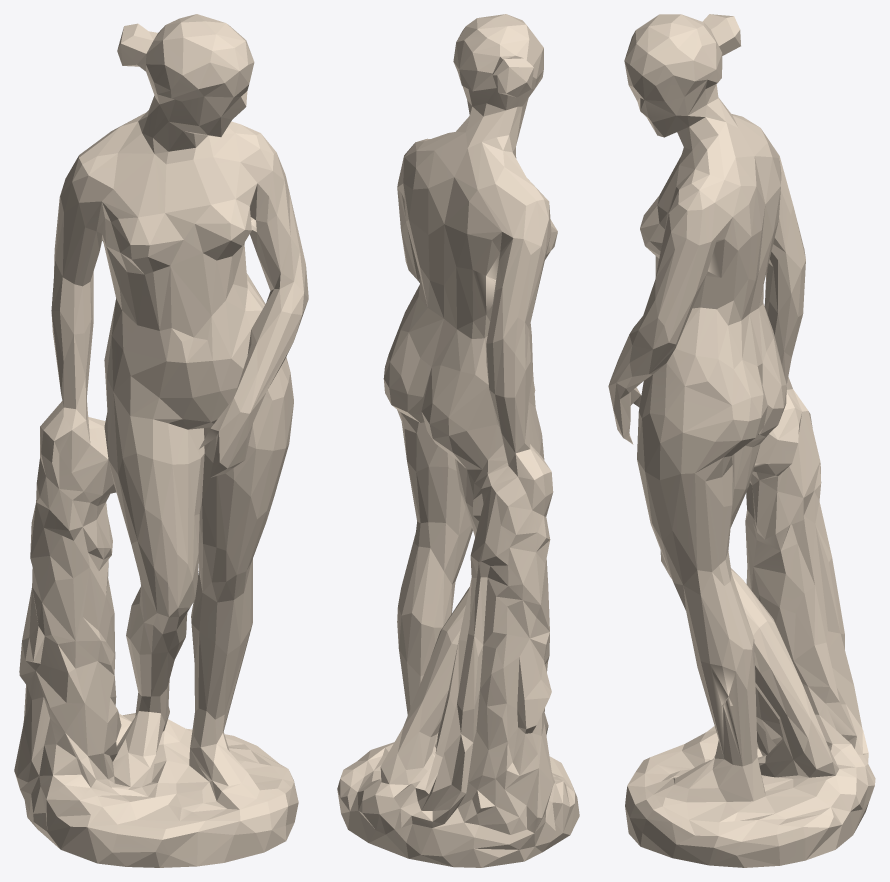
File: Statue.fbx
The picture shows the model from 3 angles, left to right: view 1: azimuth 30°, elevation 25°; view 2: azimuth 150°, elevation 25°; view 3: azimuth 270°, elevation 25°; orthographic projection. The views are drawn at different scales.
Visible parts, largest first — view 1: Statue; view 2: Statue; view 3: Statue.
Boxes of the visible parts, bbox=[...] form: Statue: bbox=[14, 14, 308, 867]; Statue: bbox=[337, 14, 579, 867]; Statue: bbox=[608, 14, 875, 867].
Bounding box in the file's own units: 194 × 658 × 201.
